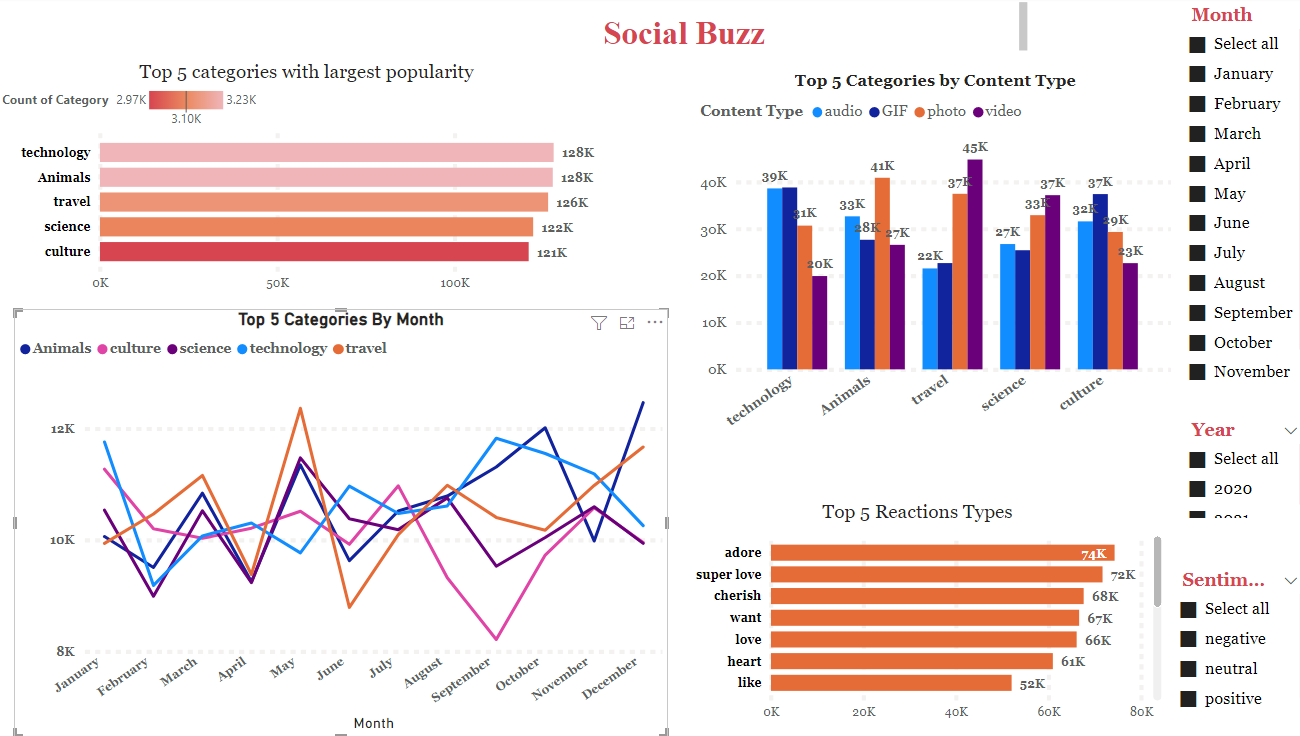

This screenshot's page, from the dashboard's own definition file:
{"tool":"powerbi","page":{"name":"Page 1","canvas":[1280,720],"ordinal":0},"visuals":[{"type":"barChart","title":" Top 5 categories with largest popularity","fields":{"Category":["combined.Category"],"Y":["Sum(combined.Score)"]},"box":[0,62.2,602.1,241.2],"z":0},{"type":"textbox","box":[136.2,0,871.5,62.2],"z":1},{"type":"barChart","title":" Top 5 Reactions Types","fields":{"Y":["Sum(combined.Score)"],"Category":["combined.Type"]},"box":[652.6,490.2,485.3,229.5],"z":2},{"type":"slicer","fields":{"Values":["combined.Datetime.Variation.Date Hierarchy.Month"]},"box":[1146.7,0,133.3,379.3],"z":3},{"type":"slicer","fields":{"Values":["combined.Datetime.Variation.Date Hierarchy.Year"]},"box":[1146.7,403.6,133.3,108],"z":4},{"type":"clusteredColumnChart","title":"Top 5 Categories by Content Type","fields":{"Category":["combined.Category"],"Y":["Sum(combined.Score)"],"Series":["combined.Content Type"]},"box":[678.9,72,467.8,378.4],"z":5},{"type":"slicer","fields":{"Values":["combined.Sentiment"]},"box":[1138,549.5,142,148.8],"z":6},{"type":"lineChart","title":"Top 5 Categories By Month ","fields":{"Category":["combined.Datetime.Variation.Date Hierarchy.Month"],"Series":["combined.Category"],"Y":["Sum(combined.Score)"]},"box":[16.5,303.5,636.1,416.3],"z":7}]}

Visuals, with their boxes in screenshot pixels (x1, y1, x2, y2), scaled from the page's 1280x720 canvas onto the 1300x736 screenshot:
" Top 5 categories with largest popularity" barChart: crop(0, 64, 612, 310)
textbox: crop(138, 0, 1023, 64)
" Top 5 Reactions Types" barChart: crop(663, 501, 1156, 735)
slicer - combined.Datetime.Variation.Date Hierarchy.Month: crop(1165, 0, 1299, 388)
slicer - combined.Datetime.Variation.Date Hierarchy.Year: crop(1165, 413, 1299, 523)
"Top 5 Categories by Content Type" clusteredColumnChart: crop(690, 74, 1165, 460)
slicer - combined.Sentiment: crop(1156, 562, 1299, 714)
"Top 5 Categories By Month " lineChart: crop(17, 310, 663, 735)
